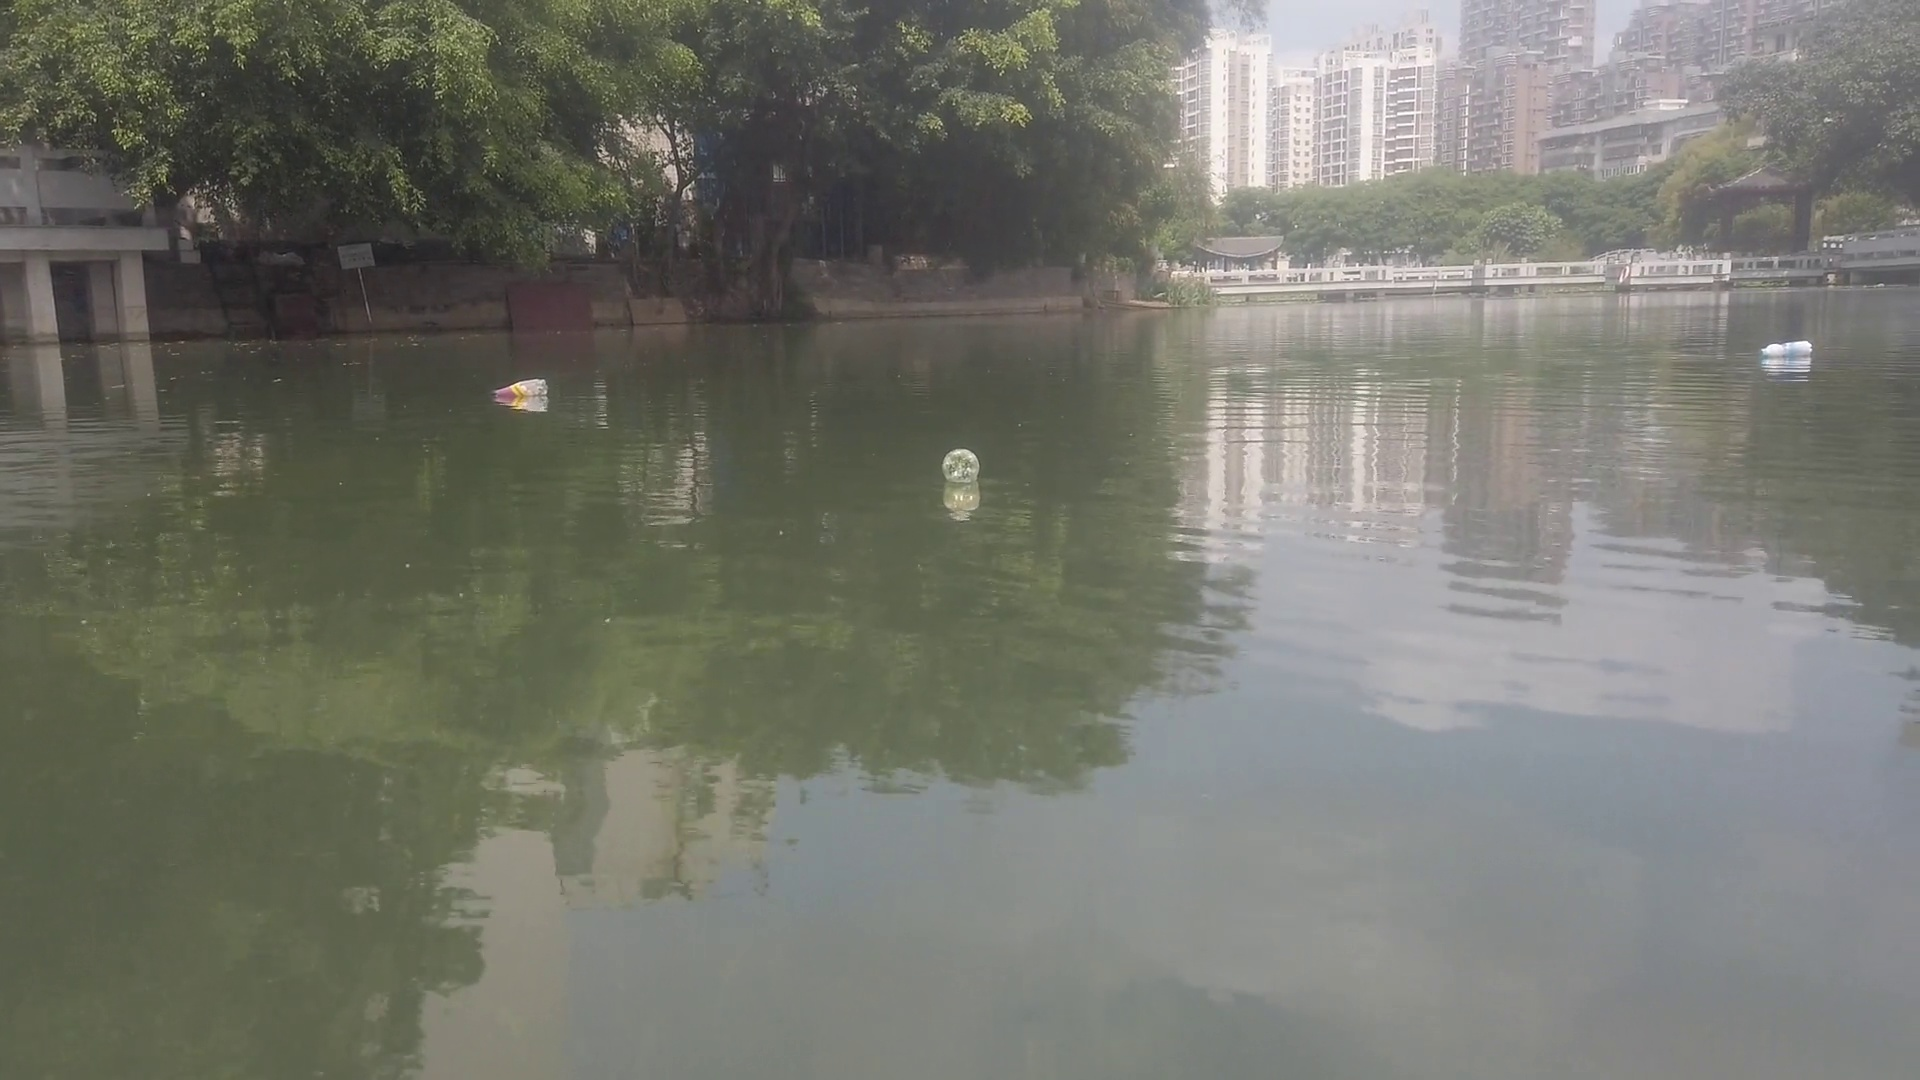bottle: (936, 443, 988, 487), (483, 373, 554, 401), (1755, 338, 1815, 363)
